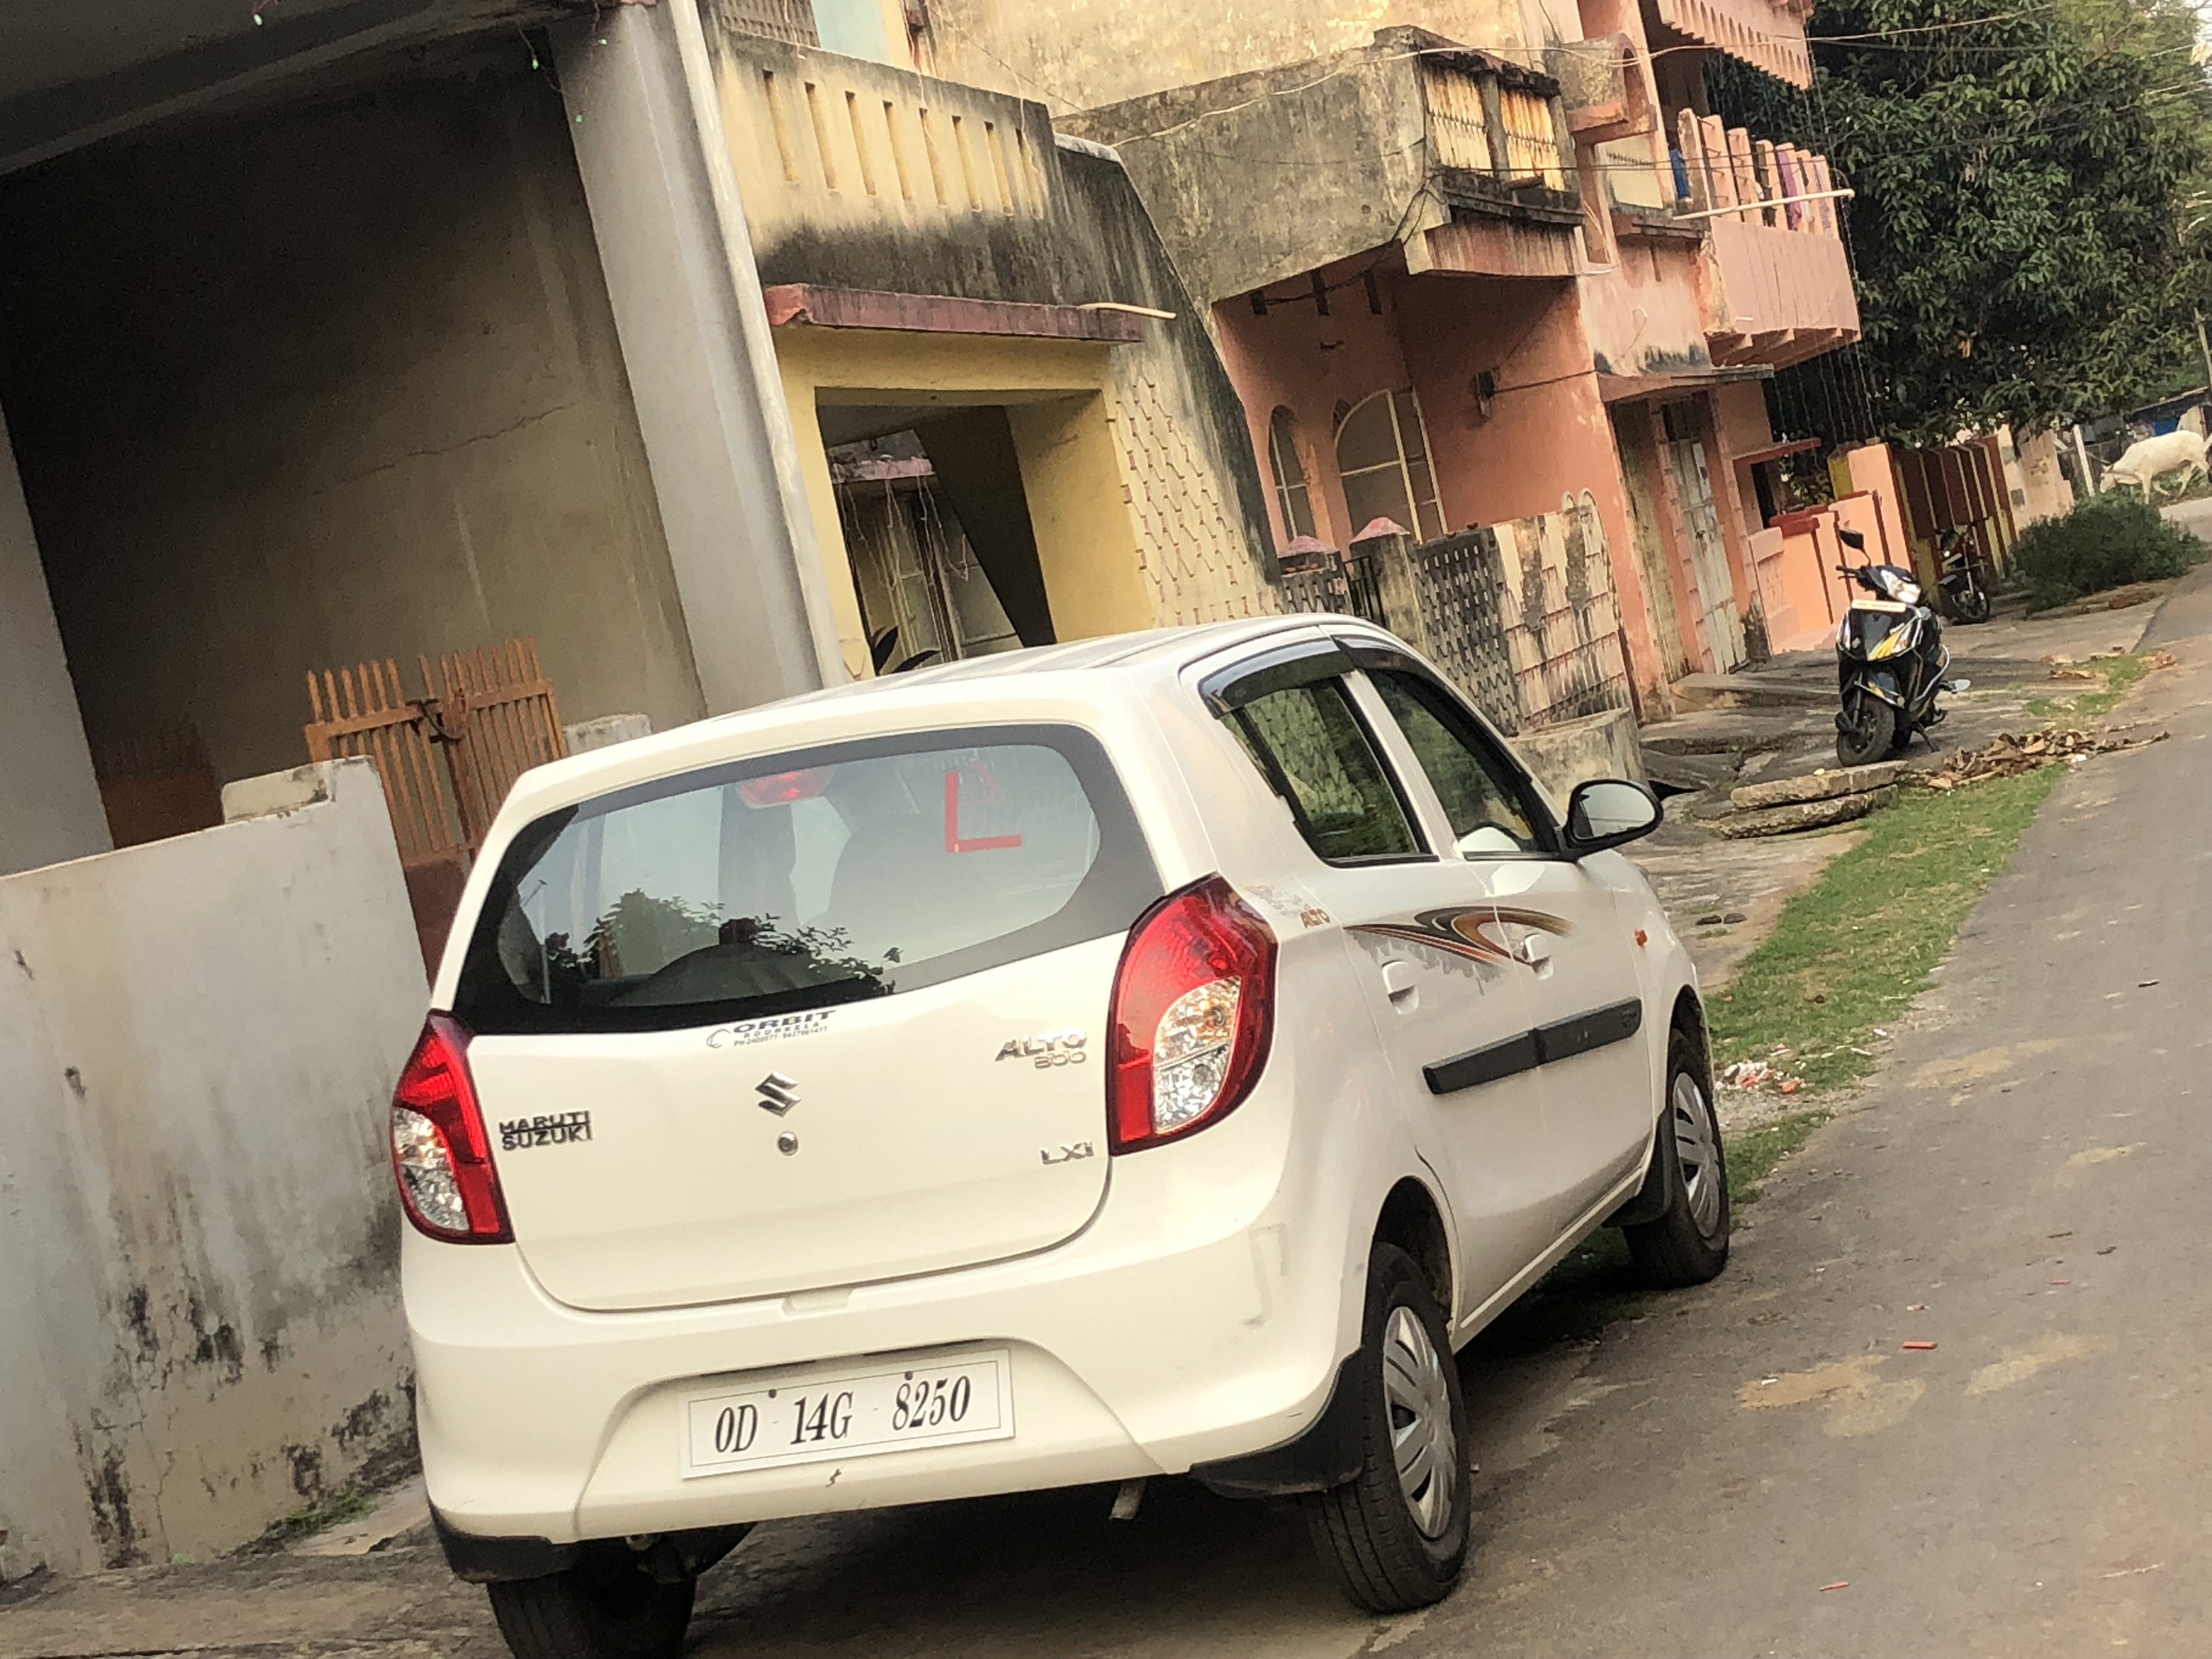licenseplate: (672, 1342, 1037, 1460)
